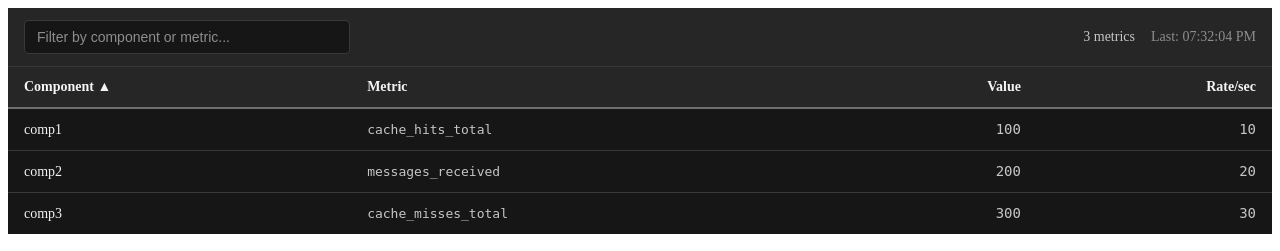
Test: MetricsTab › Filtering › should filter metrics by metric name
Type "cache" into the field with test id "metrics-filter" at (187, 37), box [24, 20, 350, 54]
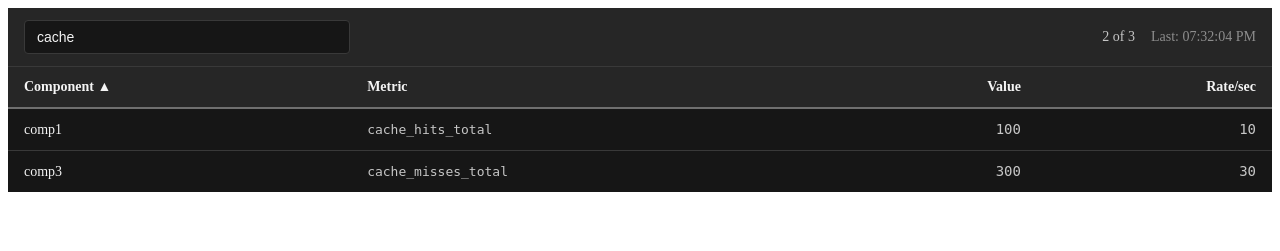
Result: the number of rows with test id "metrics-row" is 2 at [8, 108, 1272, 150]; [8, 150, 1272, 192]
